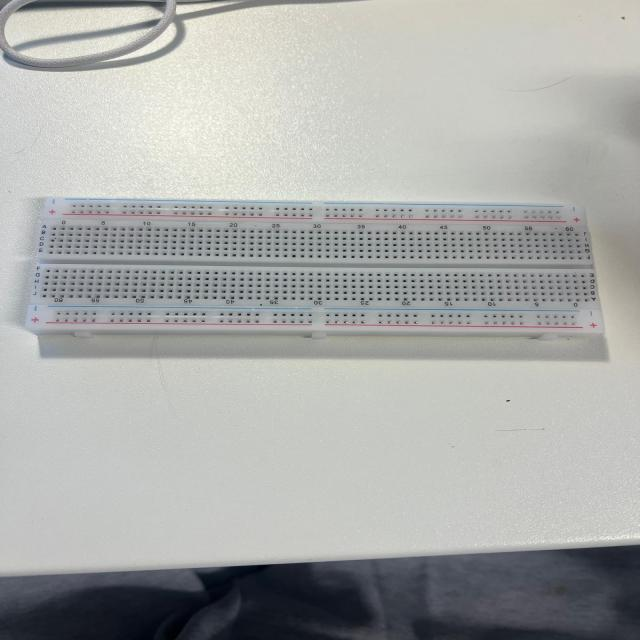BreadBoard: (27, 189, 617, 383)
